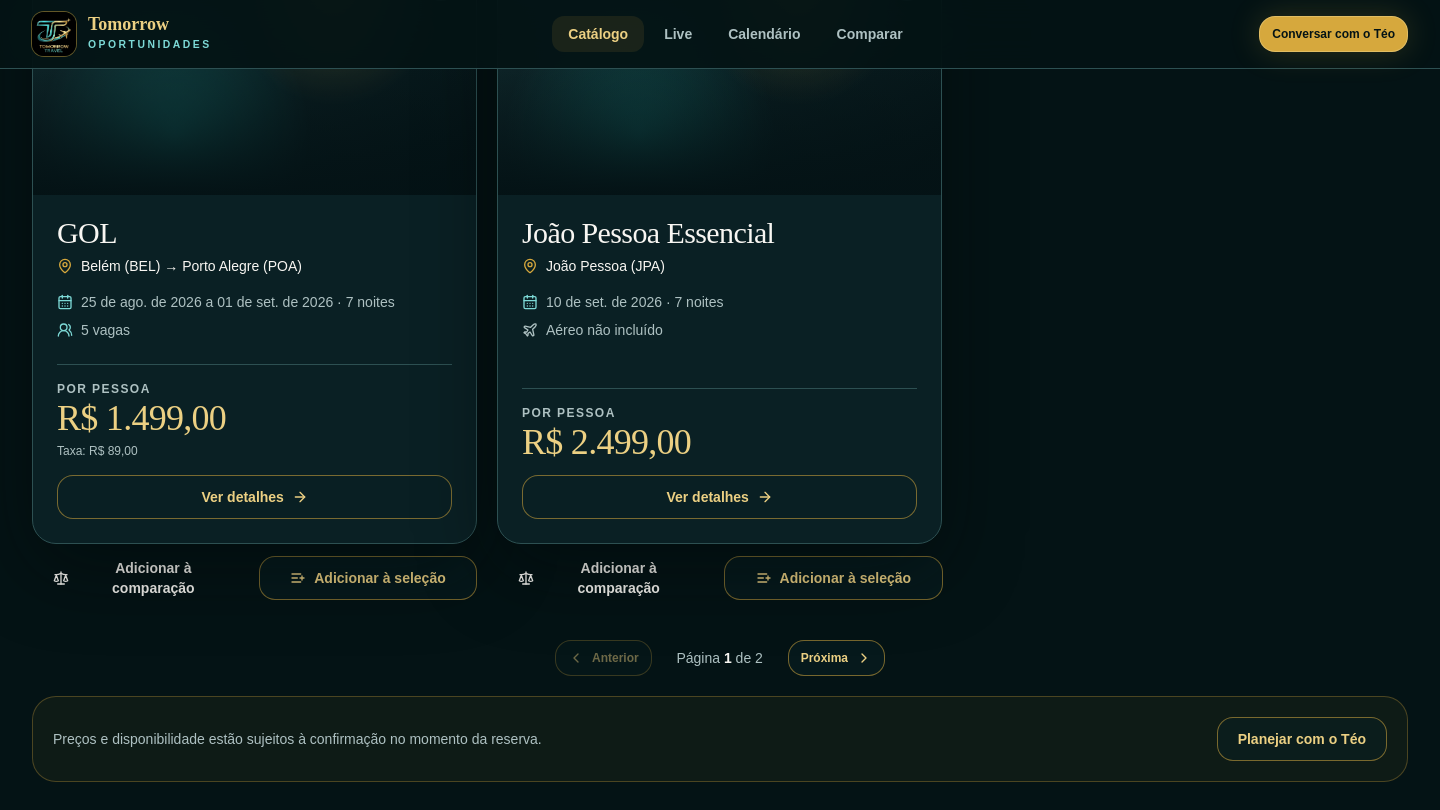
Scenario: Catálogo de oportunidades › abre o detalhe pelo UUID e limita a seleção de comparação ao estado da página
(page scrolled)
Expected: the heading "GOL" is shown, [57, 216, 117, 249]
Click the button "Adicionar à comparação" below "Taxa:": (141, 578) [32, 556, 251, 600]
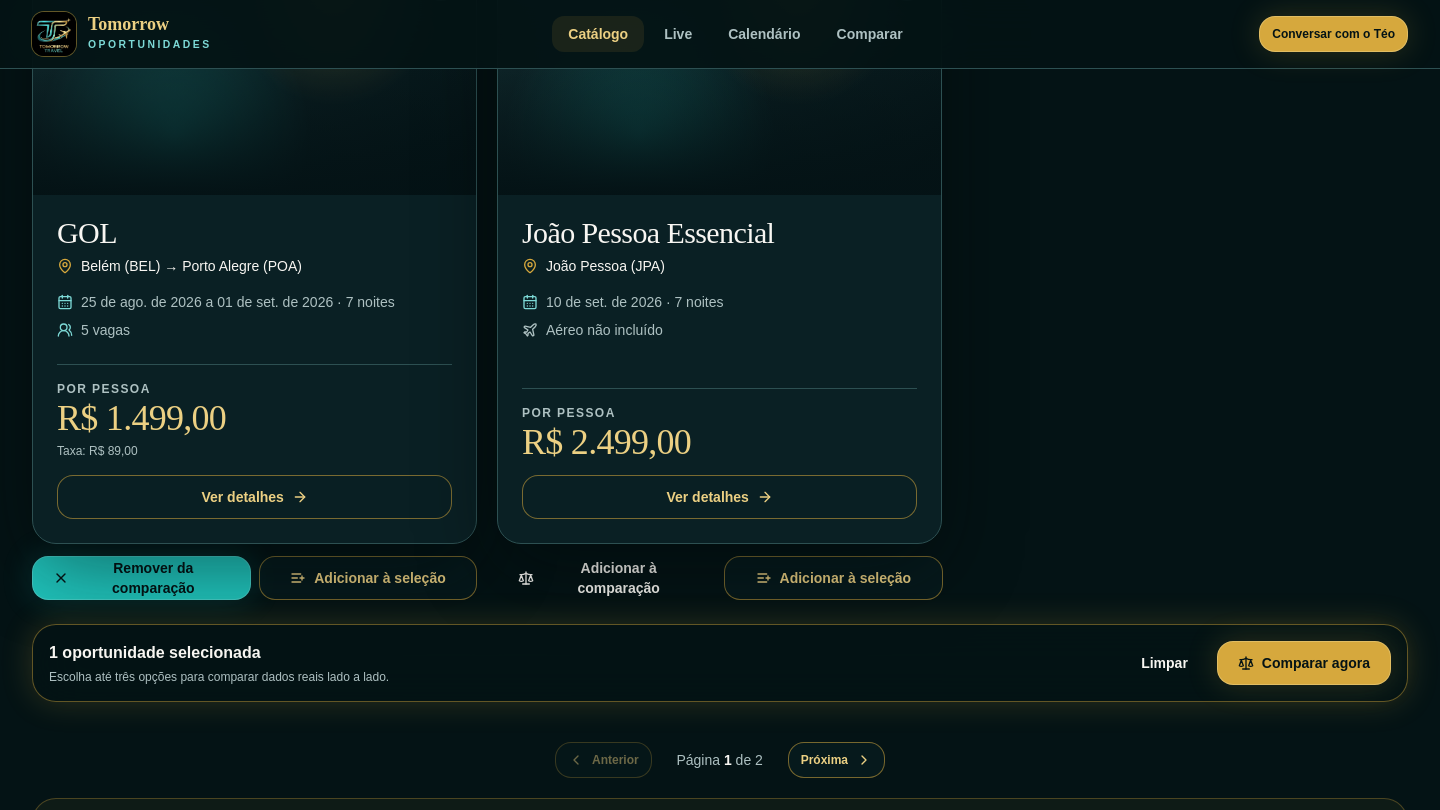
Now the text "1 oportunidade selecionada" is shown, box [49, 644, 261, 661]
